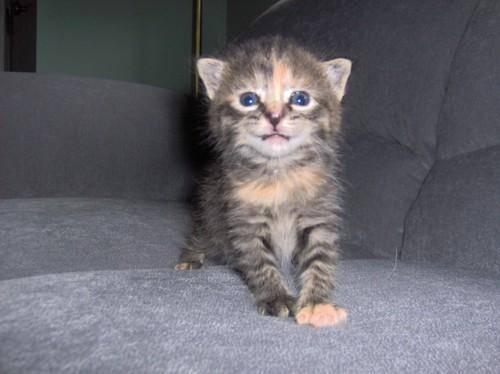cat: (176, 36, 350, 326)
